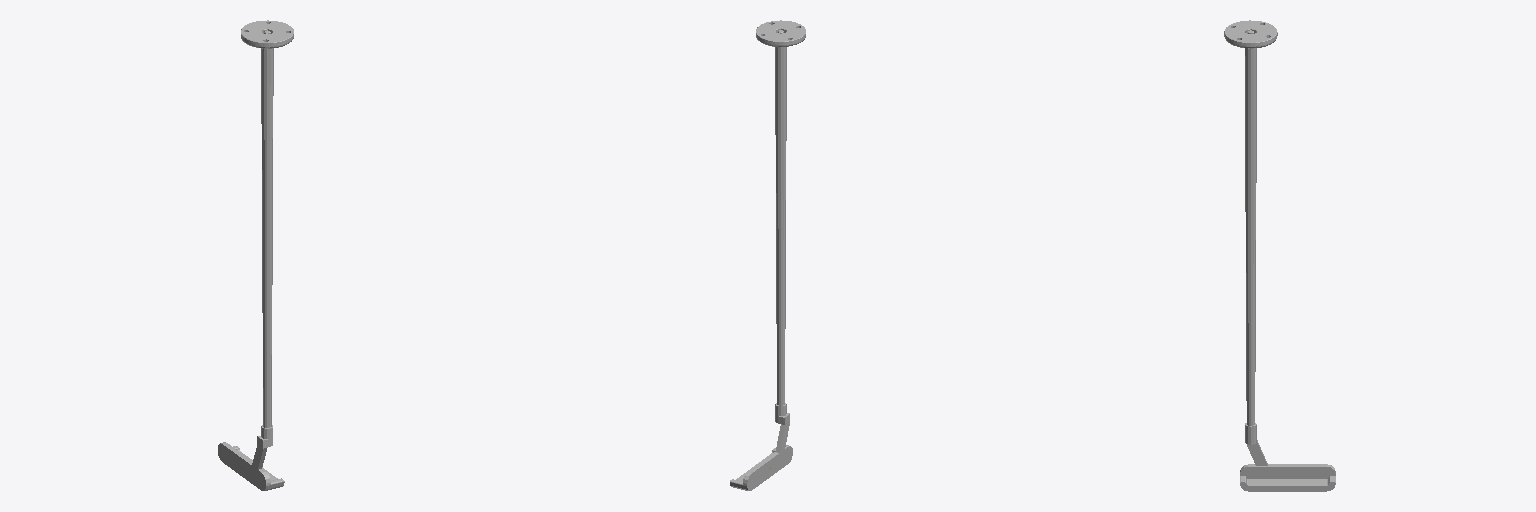
URDF robot description (golf_club_fixed):
<?xml version="1.0" encoding="utf-8"?>

<robot name="golf_club_fixed">

<link name="base_footprint">
    <visual>
        <origin xyz="0 0 0" rpy="0 0 0" />
        <geometry>
            <box size="0.001 0.001 0.001" />
        </geometry>
    </visual>
</link>

<link name="base_link">
  <inertial>
    <origin xyz="0.009652 -0.043688 0.054864" rpy="0 0 0" />
    <mass value="0.131438096507662" />
    <inertia
      ixx="0.00440572843646856"
      ixy="-2.95837561209625E-06"
      ixz="2.332845454498E-07"
      iyy="9.47954141231368E-05"
      iyz="-0.000327658091817243"
      izz="0.00432935824405533" />
  </inertial>
  <visual>
    <origin xyz="0.009652 -0.043688 0.054864" rpy="0 0 0" />
    <geometry>
      <mesh
        filename="package://golf_club_fixed_tool/meshes/visual/base_link.STL" />
    </geometry>
    <material
      name="">
      <color
        rgba="0.752941176470588 0.752941176470588 0.752941176470588 1" />
    </material>
  </visual>
  <collision>
    <origin xyz="0.009652 -0.043688 0.054864" rpy="0 0 0" />
    <geometry>
      <mesh
        filename="package://golf_club_fixed_tool/meshes/visual/base_link.STL" />
    </geometry>
  </collision>
</link>

<joint name="base_footprint_joint" type="fixed">
    <origin xyz="0 0 0" rpy="0 0 0" />
    <parent link="base_footprint"/>
    <child link="base_link" />
</joint>

</robot>

--- What the picture shows (computed from the rendered views, not written in the file) ---
The picture shows the robot from 3 angles, left to right: view 1: azimuth 30°, elevation 25°; view 2: azimuth 150°, elevation 25°; view 3: azimuth 270°, elevation 25°; orthographic projection.
Model golf_club_fixed with 2 links and 1 joints (1 fixed), rooted at base_footprint, posed every joint at zero.
Links seen in each view (by area): view 1: base_link; view 2: base_link; view 3: base_link.
Boxes of the visible links, x1=… form: base_link: x1=218, y1=20, x2=293, y2=490; base_link: x1=730, y1=20, x2=805, y2=490; base_link: x1=1224, y1=20, x2=1335, y2=491.
Bounding box of the posed robot: 0.0629 × 0.1317 × 0.5922 m (x, y, z).
1 mesh visuals loaded from 1 distinct referenced files (1 binary STL).
